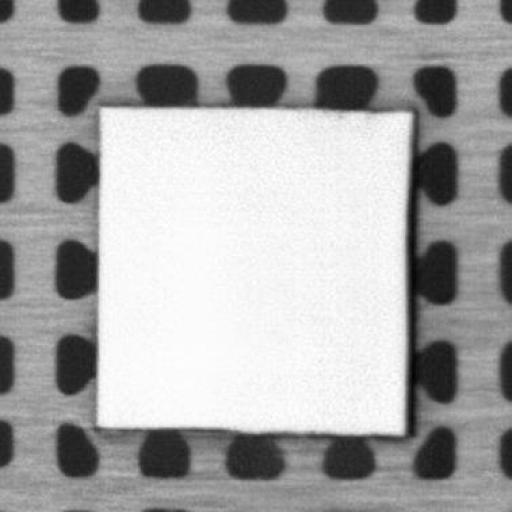DIE_BROKEN: (400, 104, 414, 437)
